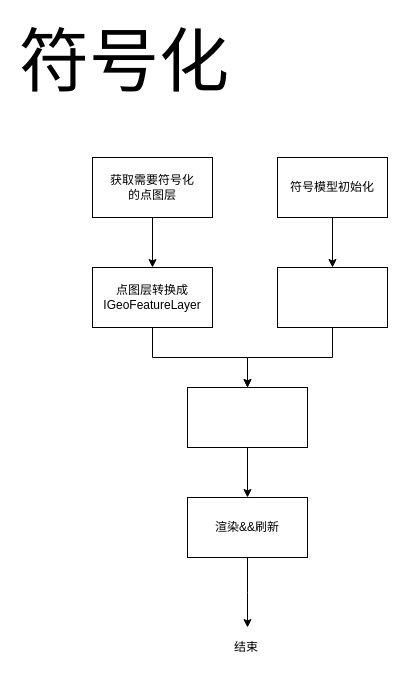
Some shapes in this 405 by 674 pixel diagram are drawn without their labels. Each missing label, with the box of its shape:
渲染模型（规则）: (186, 386, 308, 448)
符号模型（arg）: (276, 266, 388, 328)
